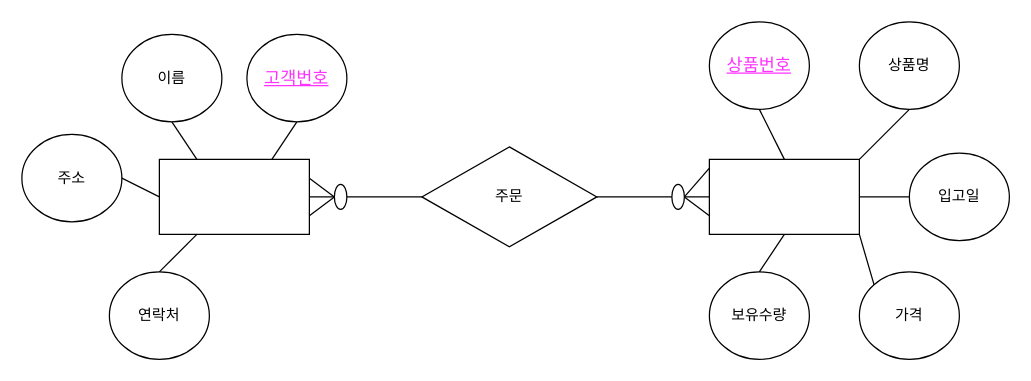
The diagram is 1031 pixels wide and 381 high, and some of its shapes have lost their labels. Each missing label, with the centre of its shape:
고객: point (233, 196)
상품: point (783, 196)
